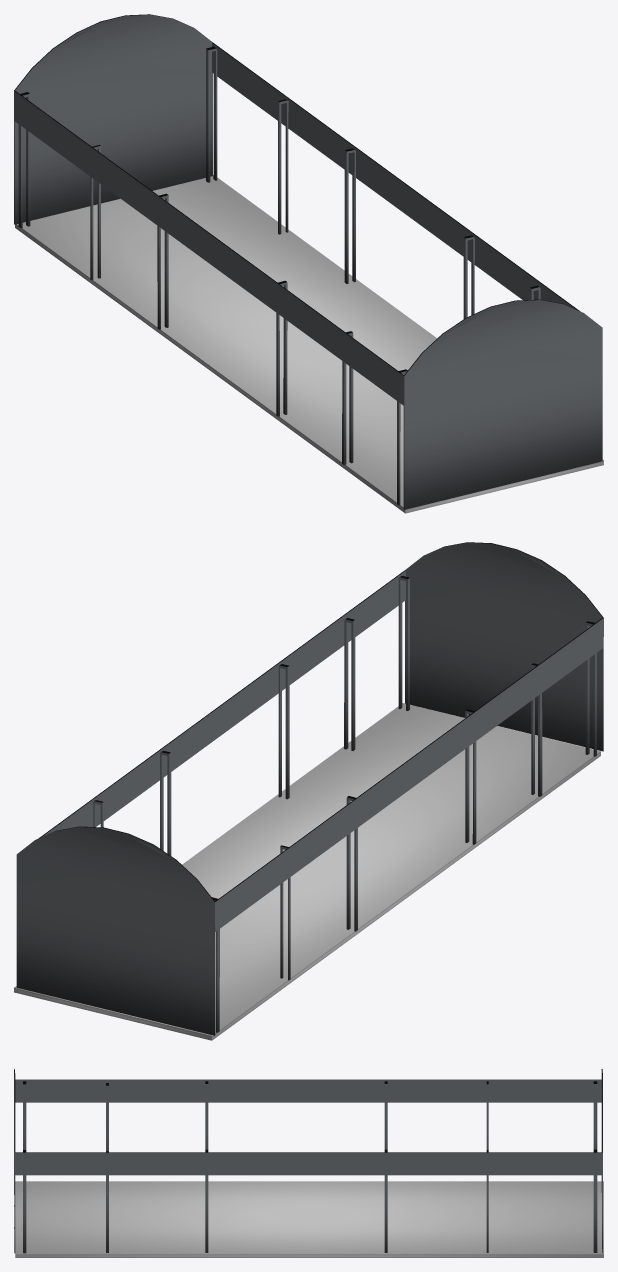
File: soulbrain_T8-storage-2.glb
3 renders of one model, top to bottom at view 1: azimuth 30°, elevation 25°; view 2: azimuth 150°, elevation 25°; view 3: azimuth 270°, elevation 25°, orthographic. The views are drawn at different scales.
Parts seen in each view (by area): view 1: T8-4; view 2: T8-4; view 3: T8-4.
Part boxes in pixels (x1=…): T8-4: x1=14, y1=14, x2=603, y2=513; T8-4: x1=14, y1=542, x2=603, y2=1040; T8-4: x1=14, y1=1069, x2=603, y2=1257.
Size of the model in its own units: 13.19 by 11.69 by 44.5.
3 materials, 2 textured.
